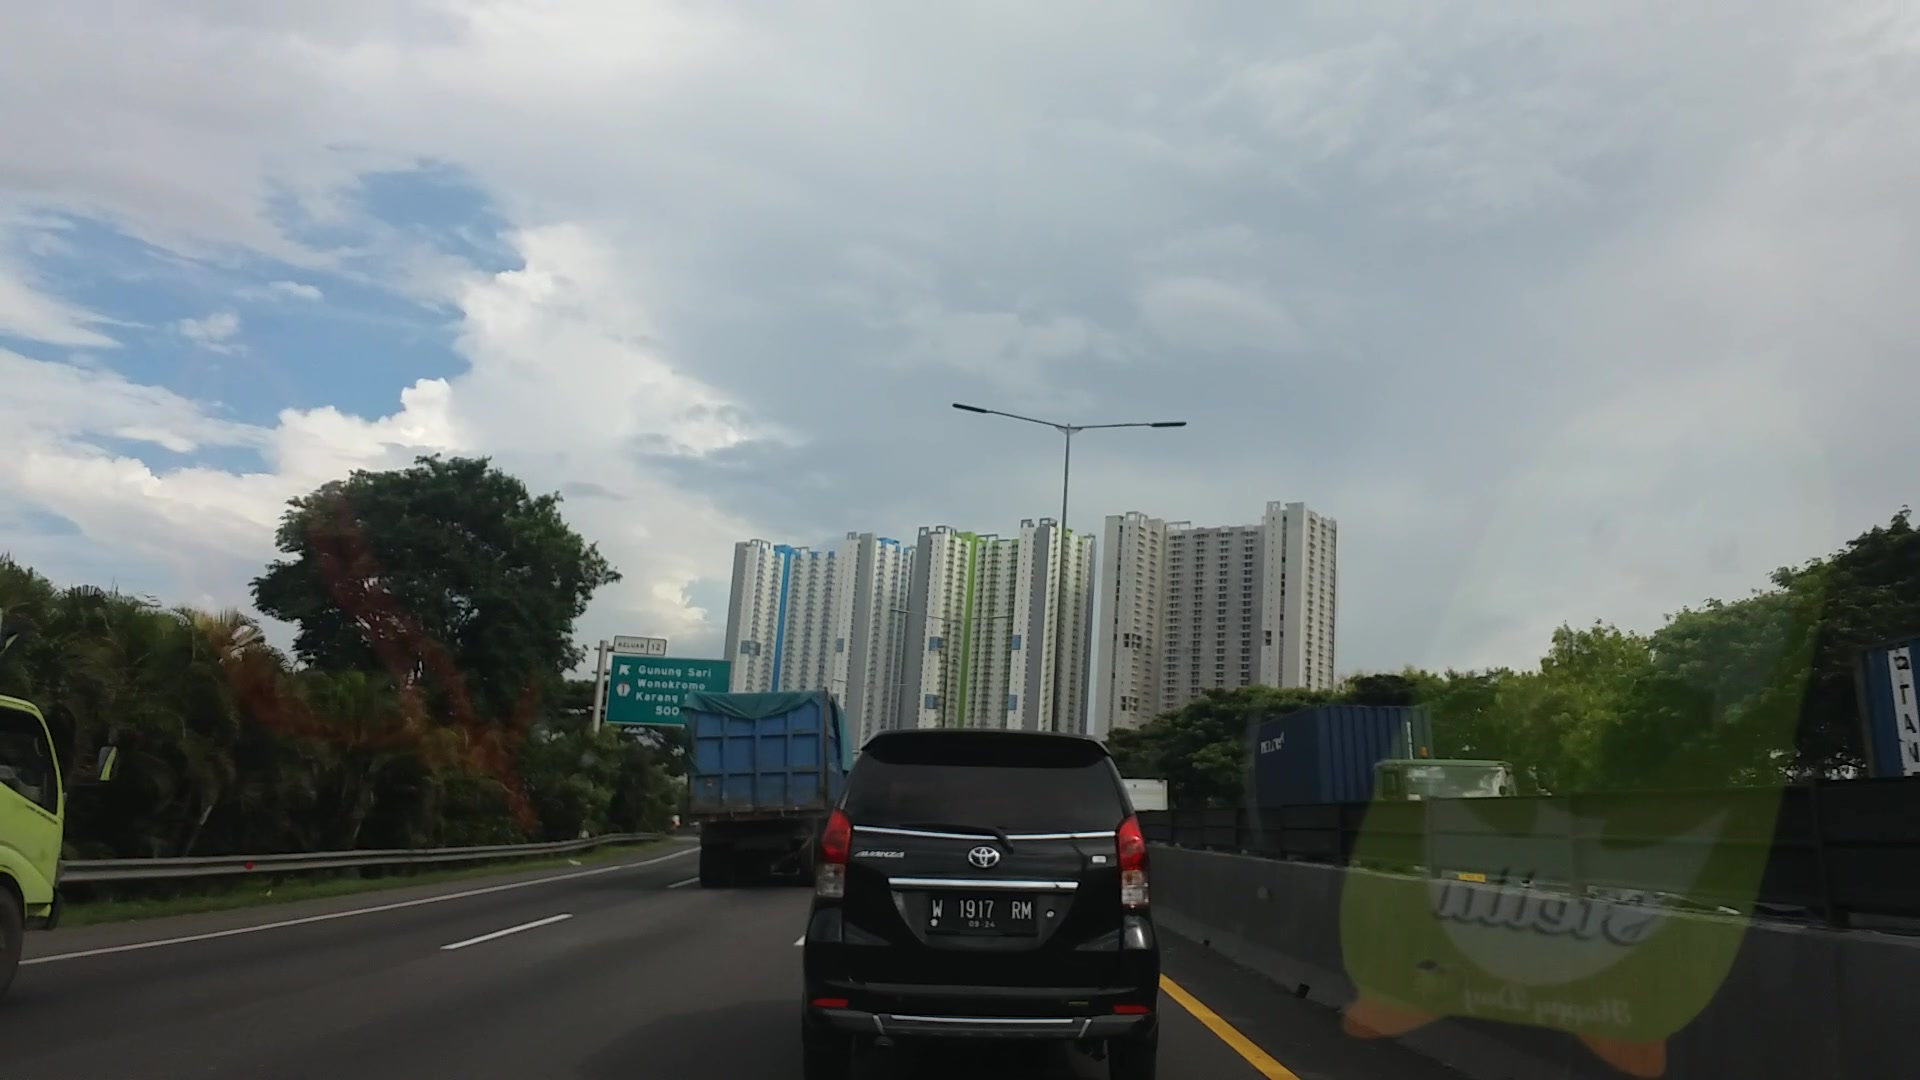plate_positive: (928, 891, 1034, 930)
